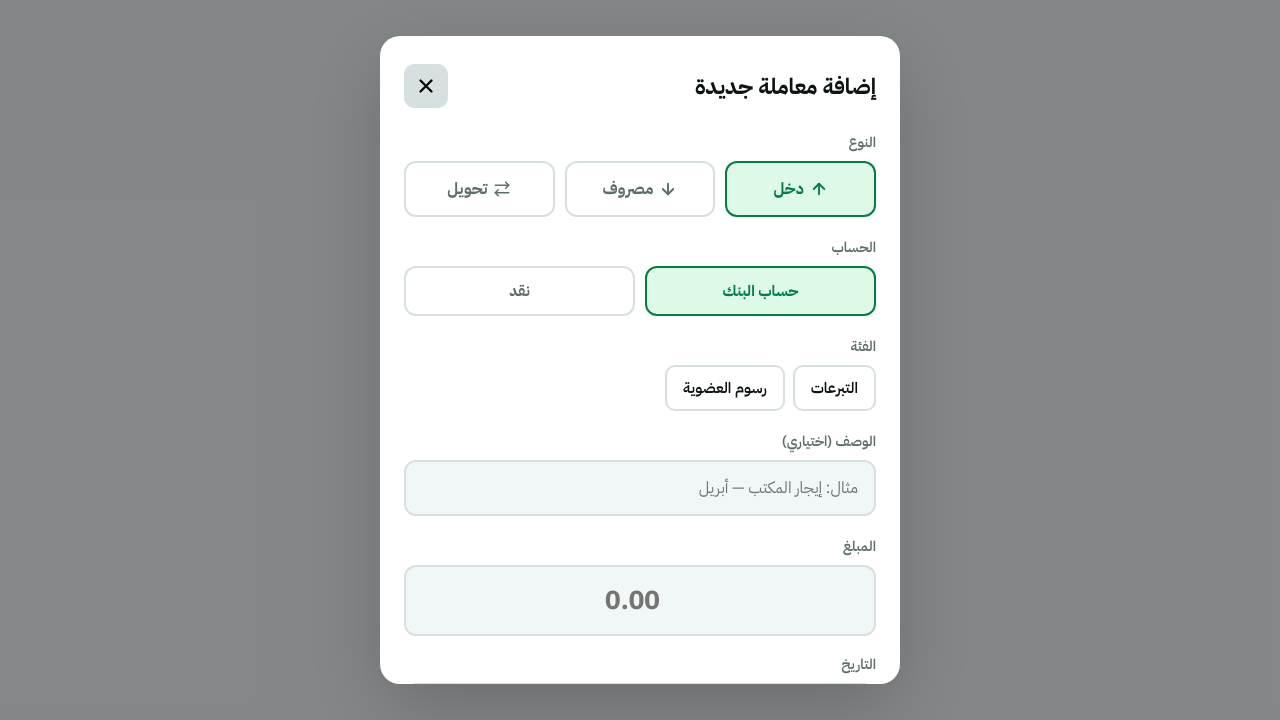
Test: AddTxModal (Arabic default) › switching to expense type clears the previously selected income category
What coordinates should you click on to do the following:
click the button "التبرعات"
I would click on:
 (834, 388)
Its box is 793,365 -> 876,411.
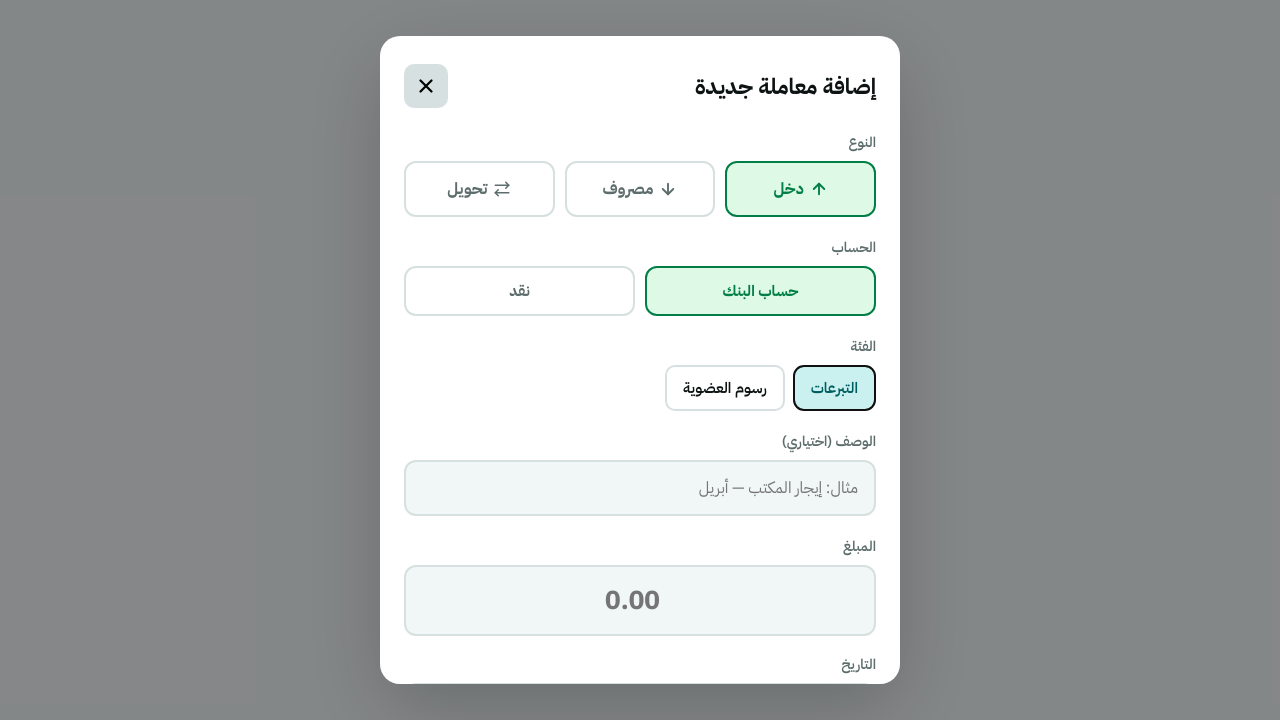
What coordinates should you click on to do the following:
click the button "مصروف"
I would click on:
 (640, 189)
Its box is 565,161 -> 715,217.
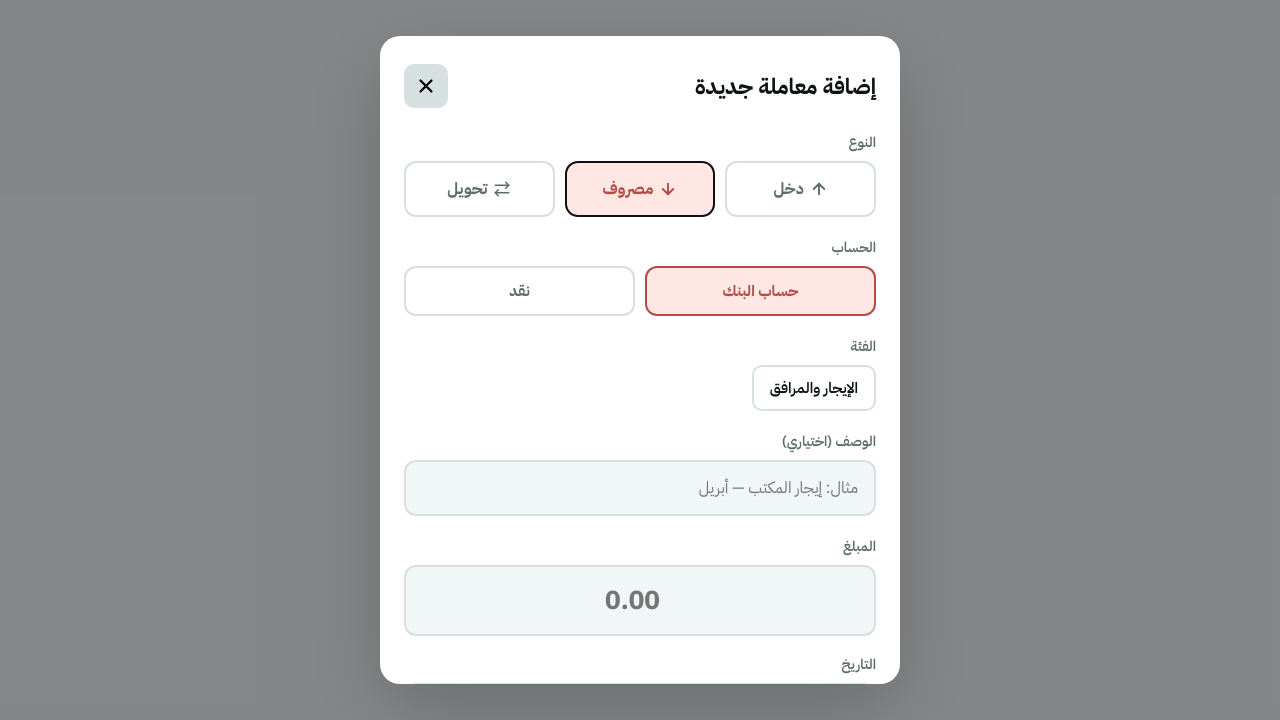
Check: the button "التبرعات" is gone
Check: the button "الإيجار والمرافق" is shown, box 752,365 -> 876,411
